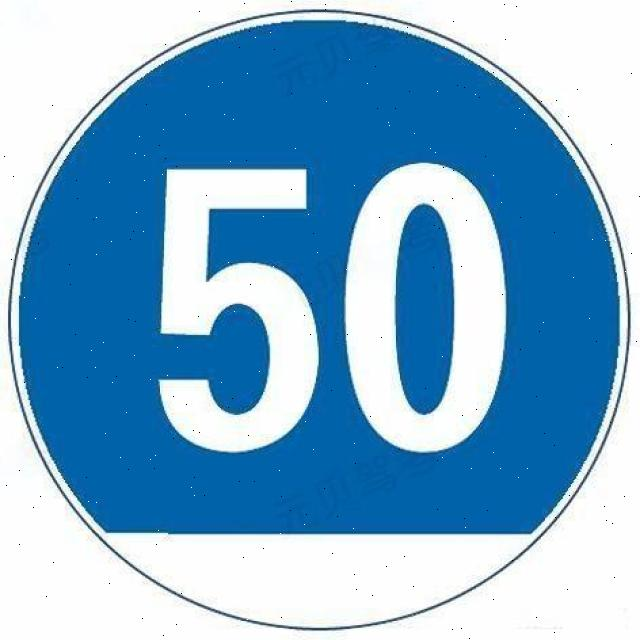speed limit 50: (8, 11, 632, 635)
